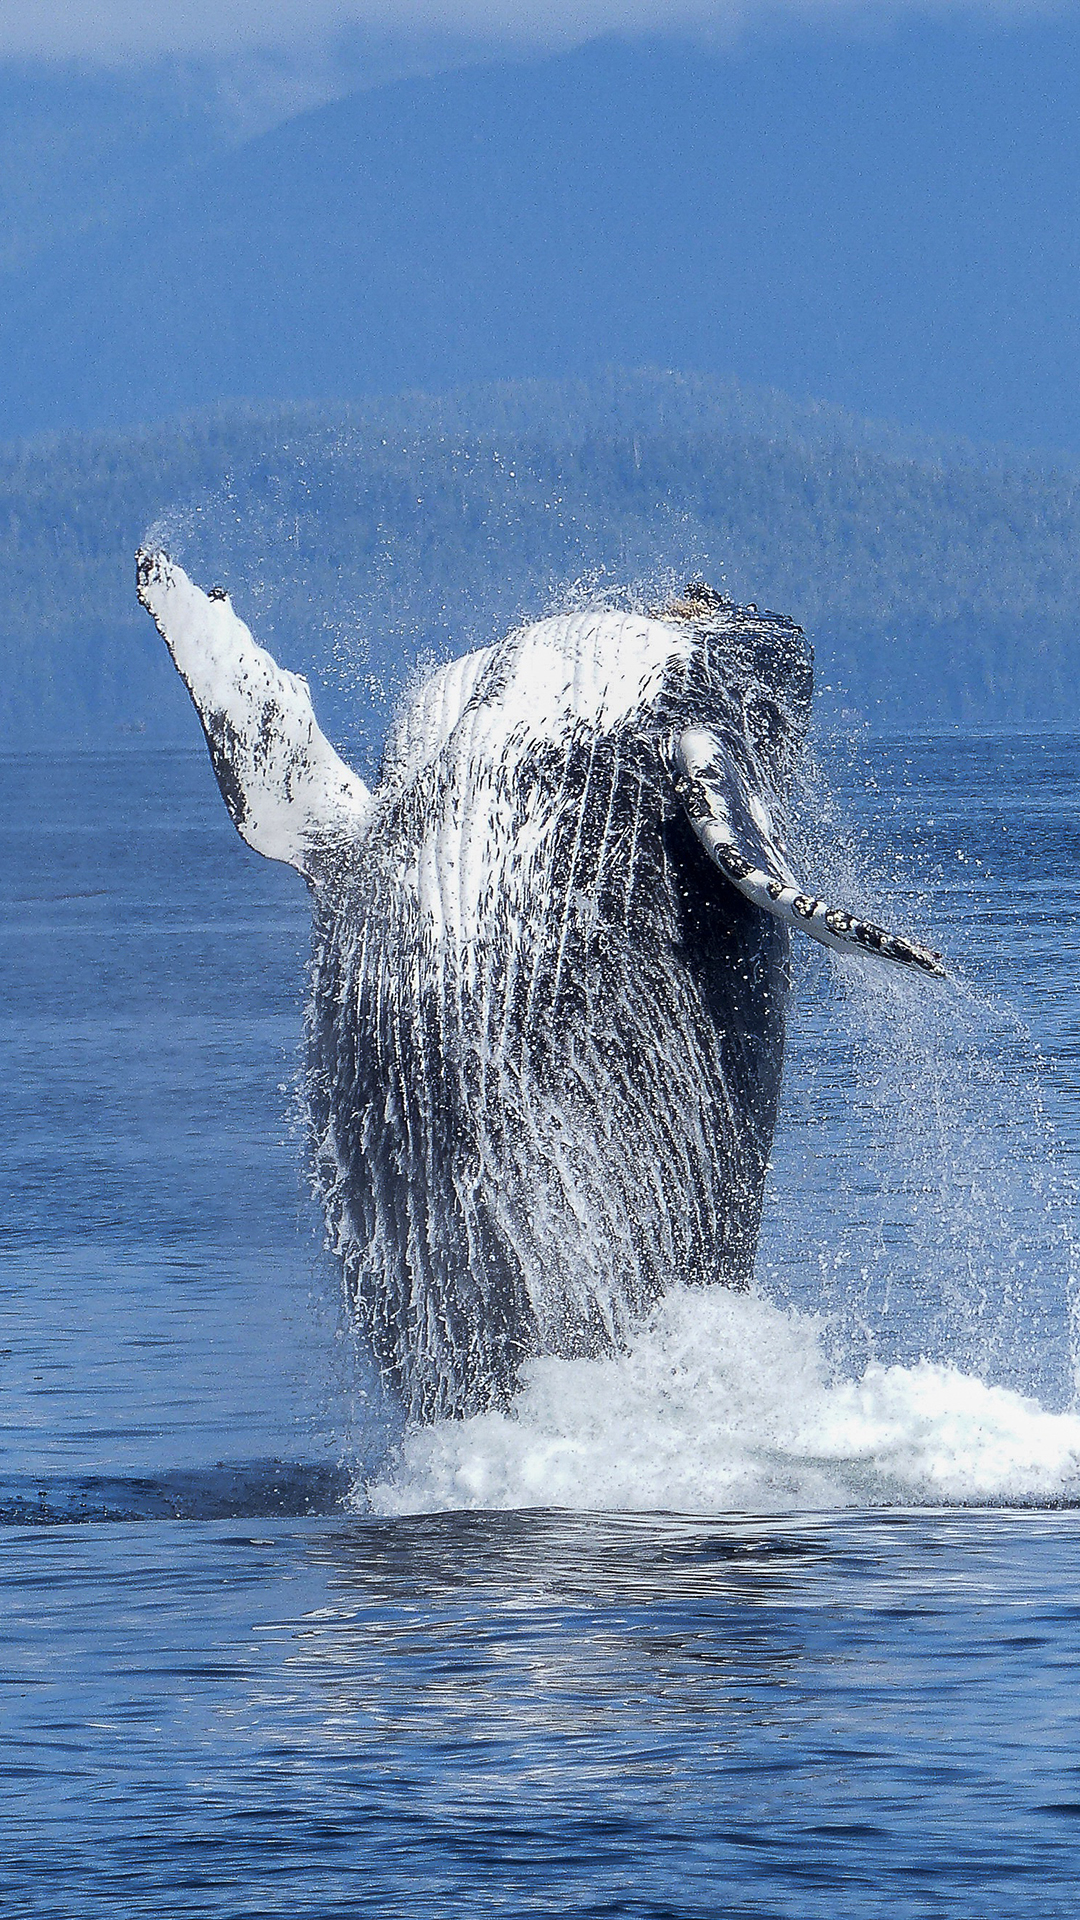fish: (115, 487, 960, 1494)
